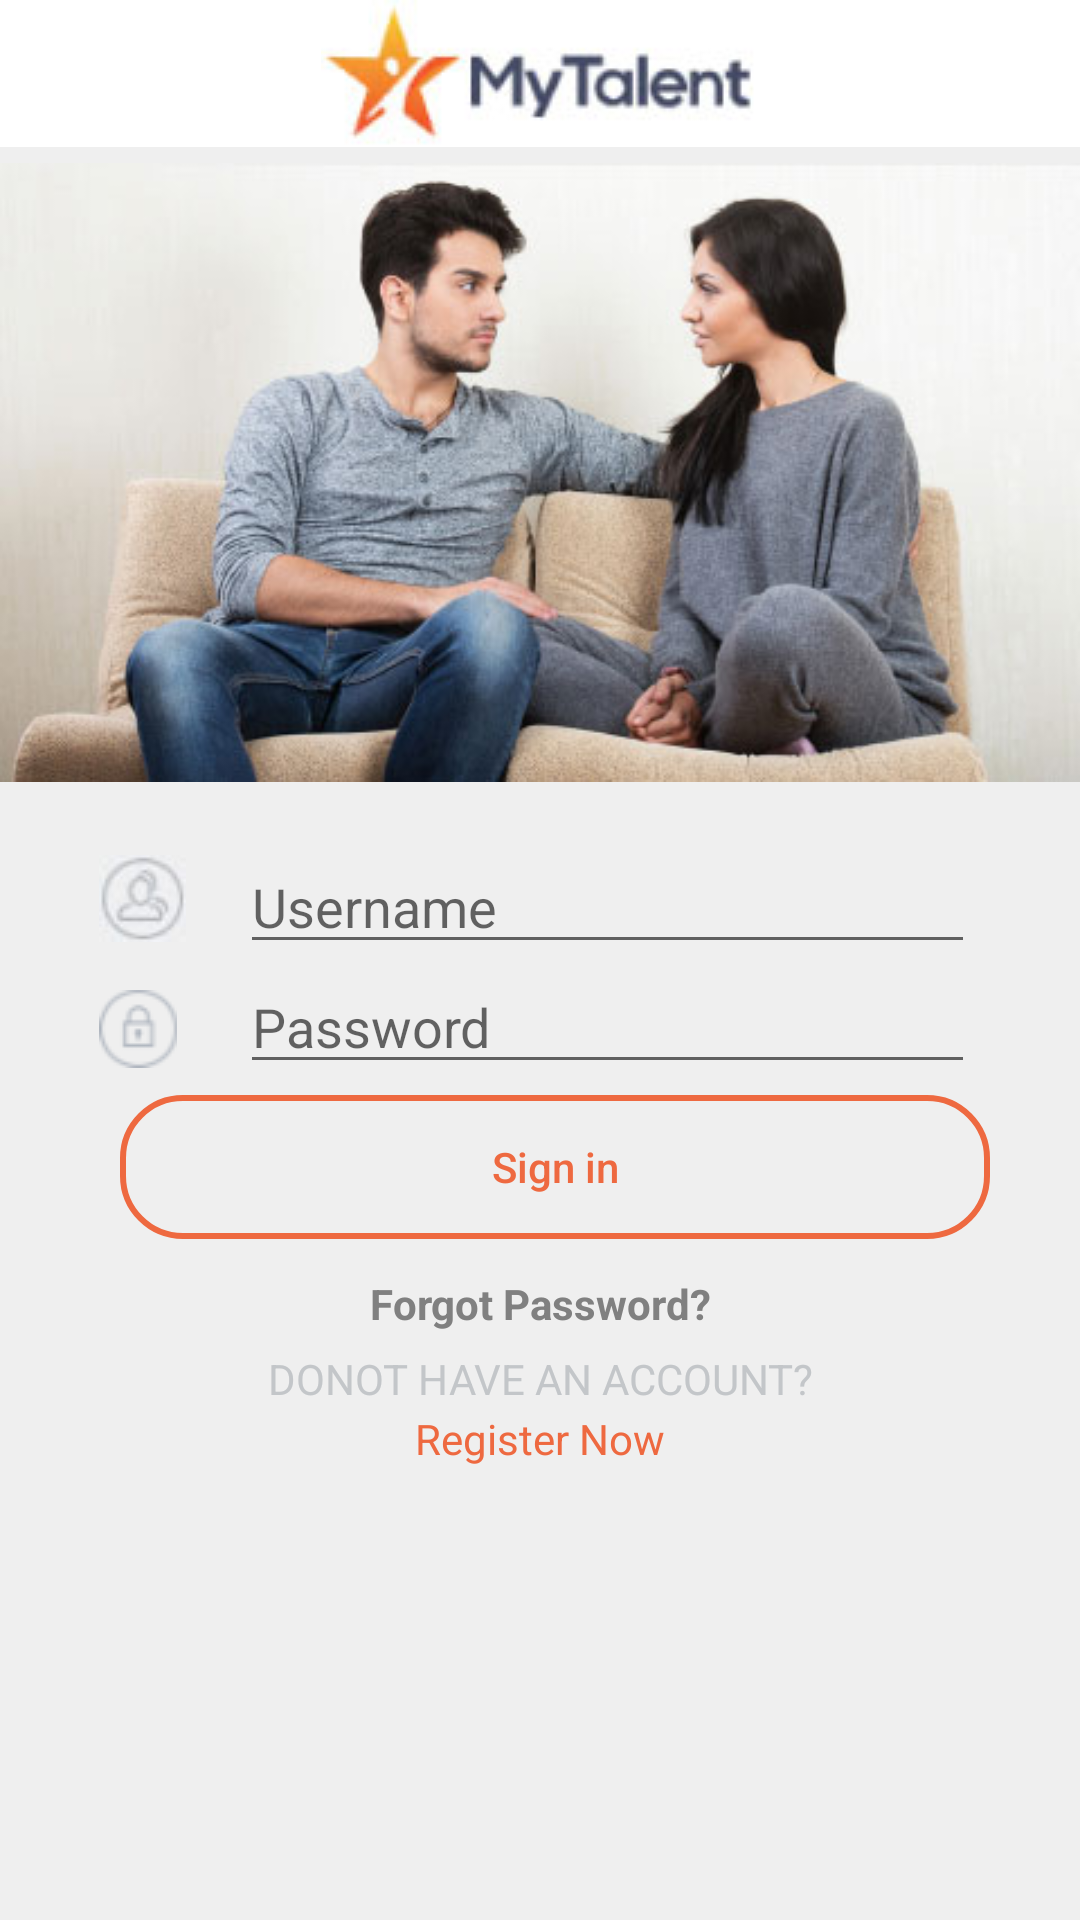

Icon bounding boxes for this 1080w x 1920h phone screenshot, format (x1, y1, x2, y2):
userfont: (102, 858, 183, 939)
